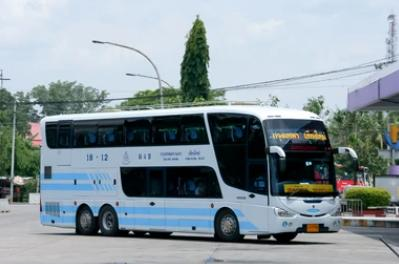vehicle: (40, 104, 358, 241)
